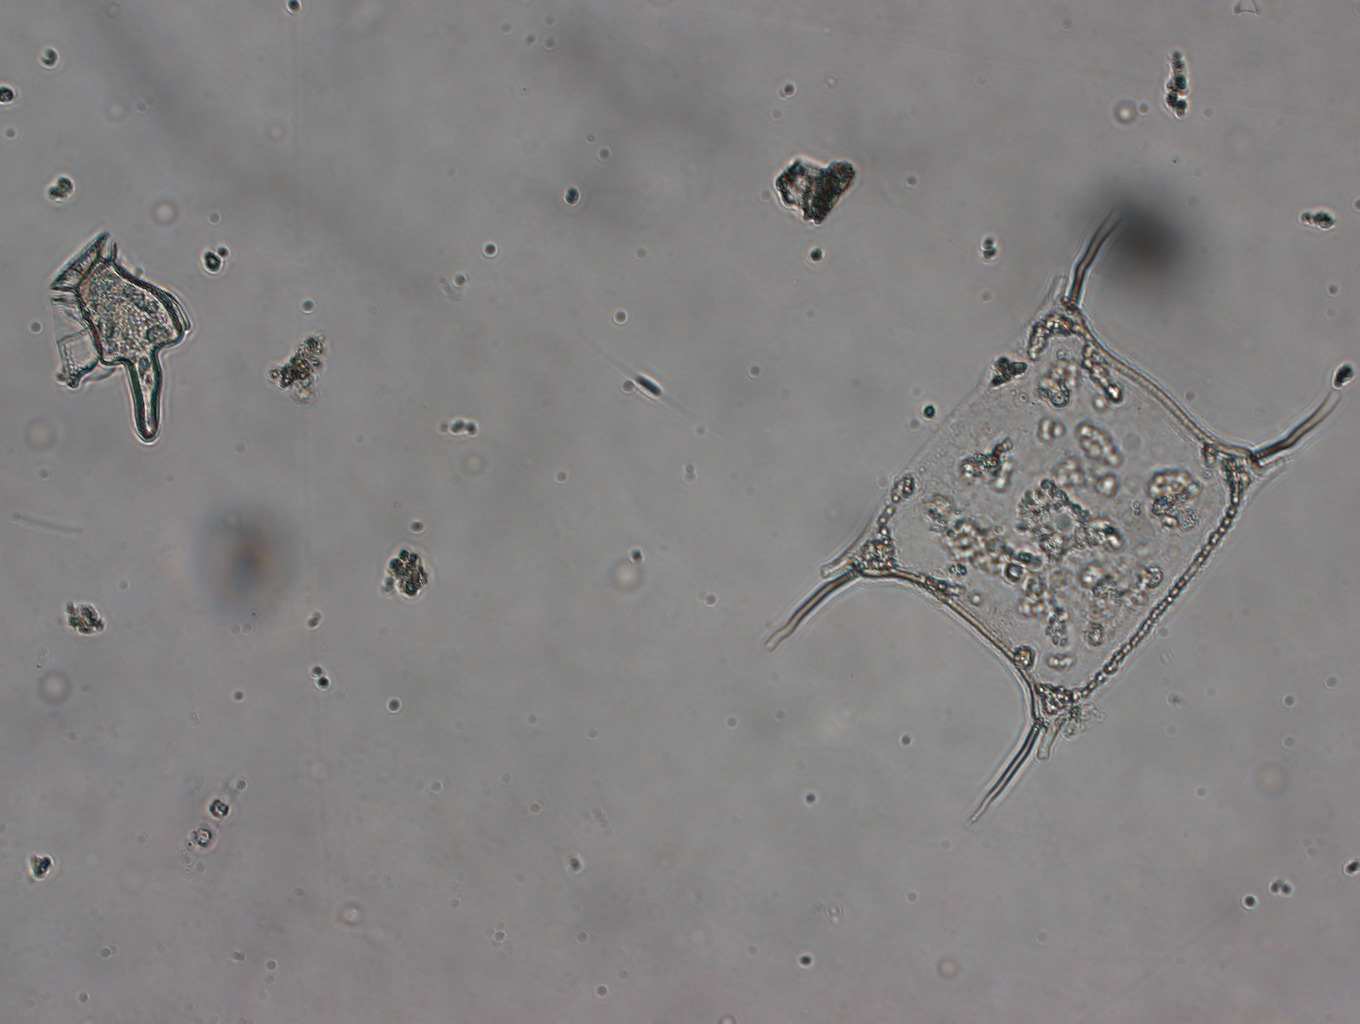biddulphia: (748, 205, 1342, 825)
dinophysis caudata: (31, 225, 197, 451)
